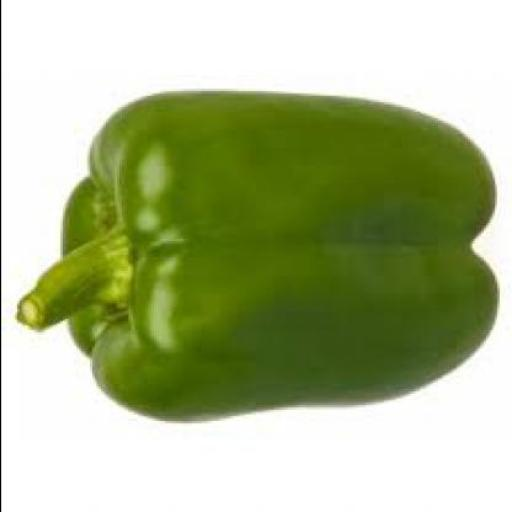biodegradable: (11, 94, 494, 424)
